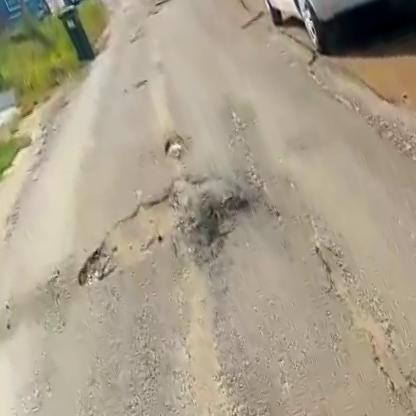pothole: (51, 176, 225, 292), (155, 134, 191, 167)
